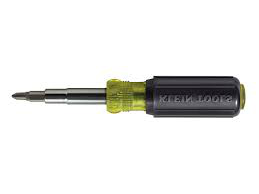screwdriver: (9, 62, 252, 132)
